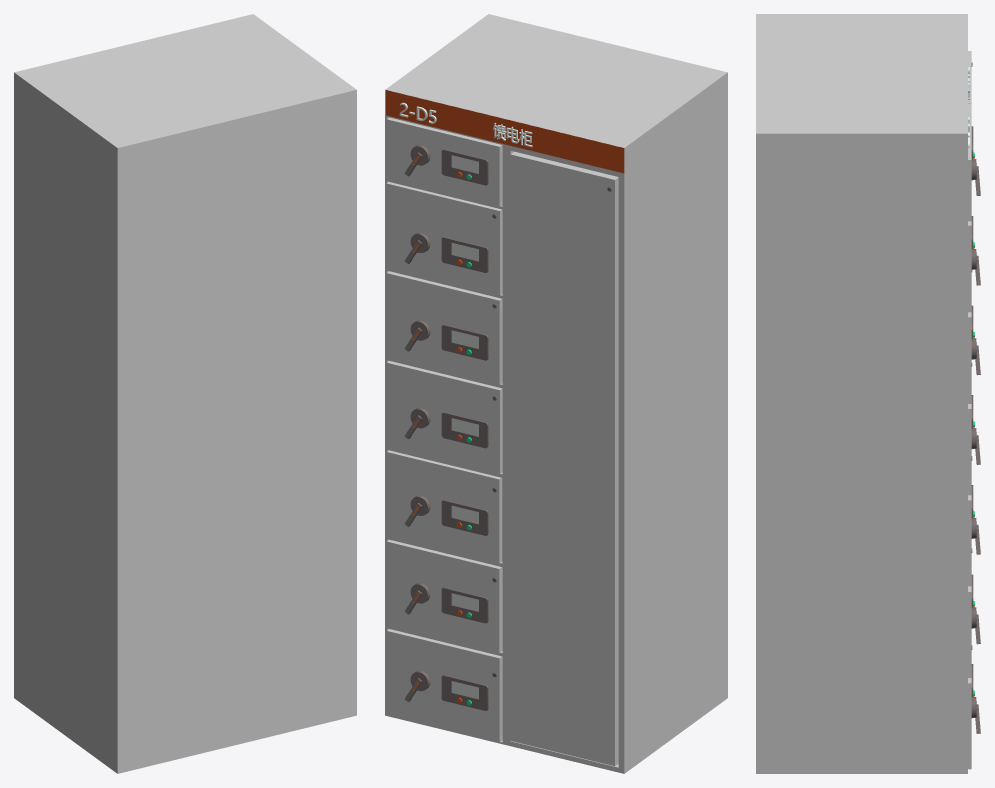
File: feedbackBox_mini.gltf
3 views of the same model, side by side, from view 1: azimuth 30°, elevation 25°; view 2: azimuth 150°, elevation 25°; view 3: azimuth 270°, elevation 25° (orthographic). The views are drawn at different scales.
Visible parts, largest first — view 1: 馈电柜; view 2: 馈电柜; view 3: 馈电柜.
Boxes of the visible parts, x1,y1,x2,y2 form: 馈电柜: [14, 14, 356, 773]; 馈电柜: [385, 14, 727, 773]; 馈电柜: [756, 14, 980, 773].
Bounding box in the file's own units: 80.02 × 200 × 63.61.
